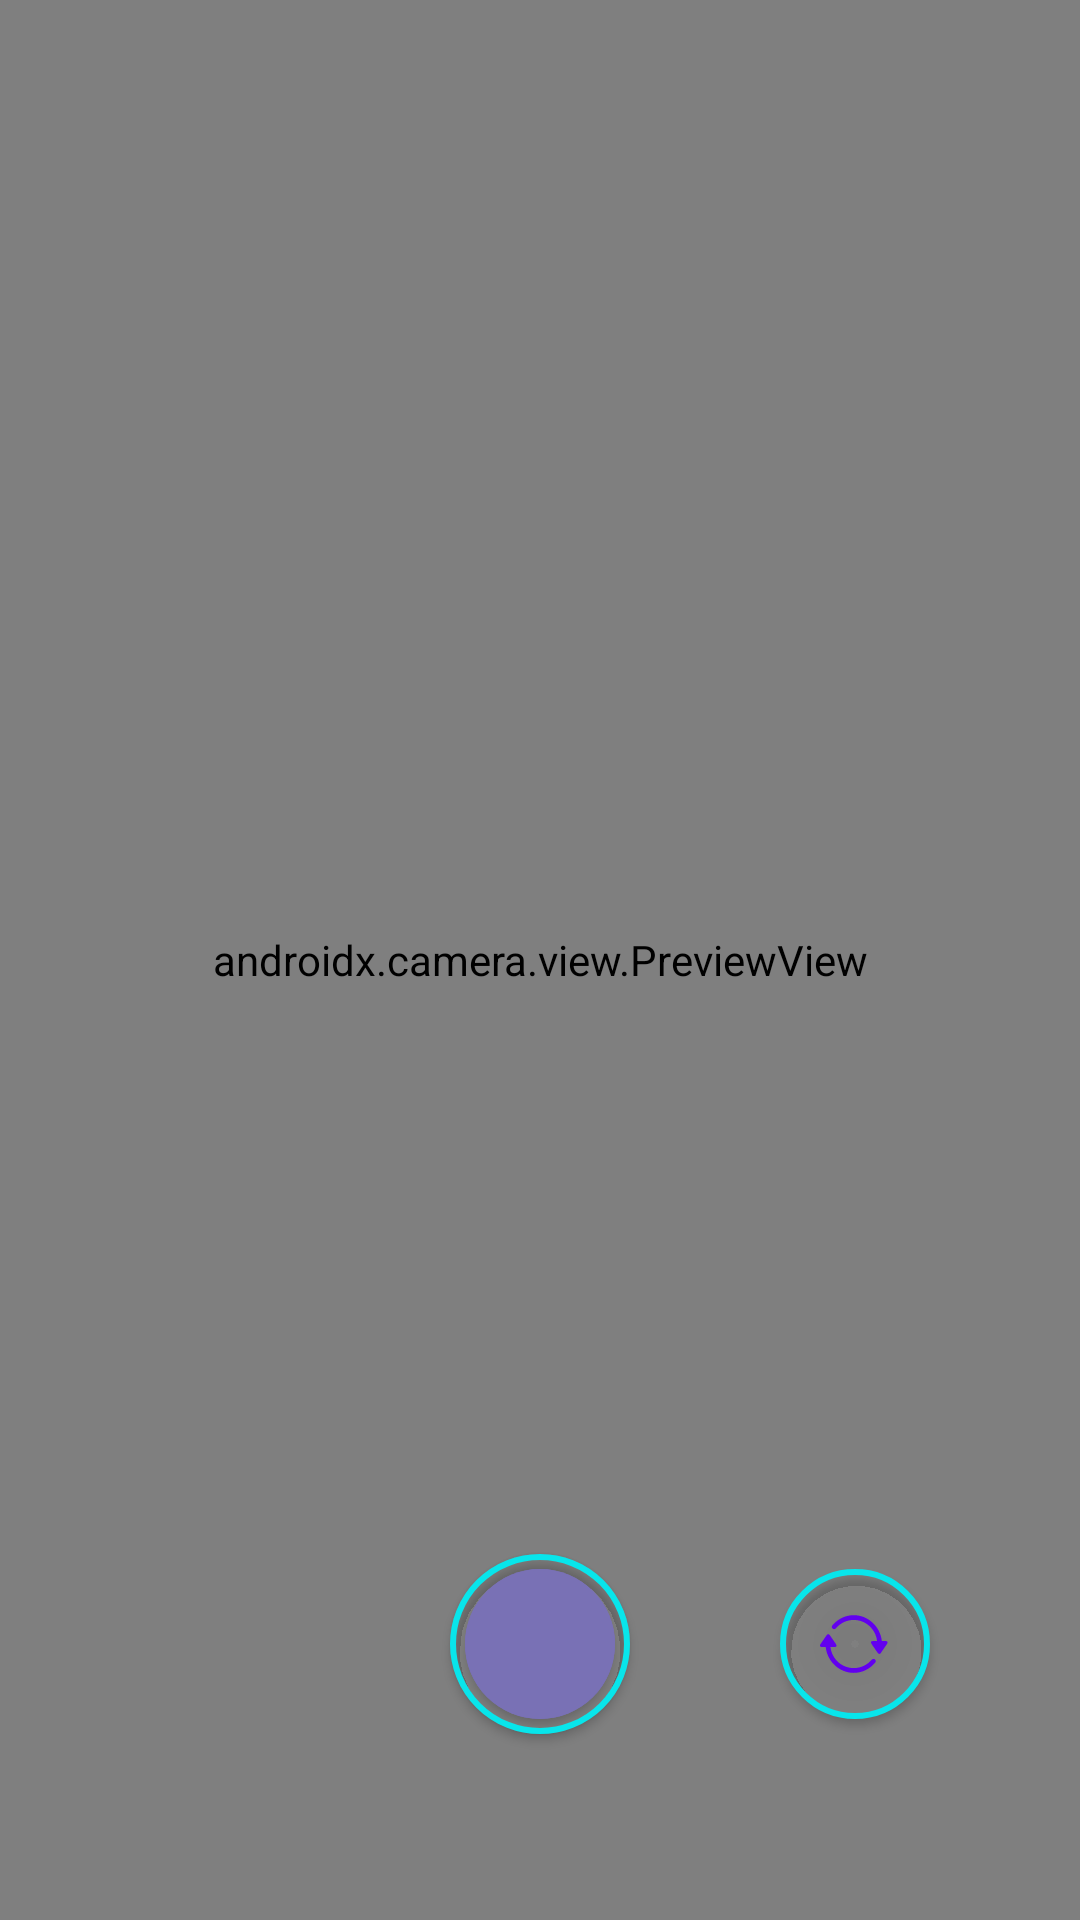

Icon click points for this 1080px×1920px phone screenshot, format (x,y):
camera switch: (855,1644)
